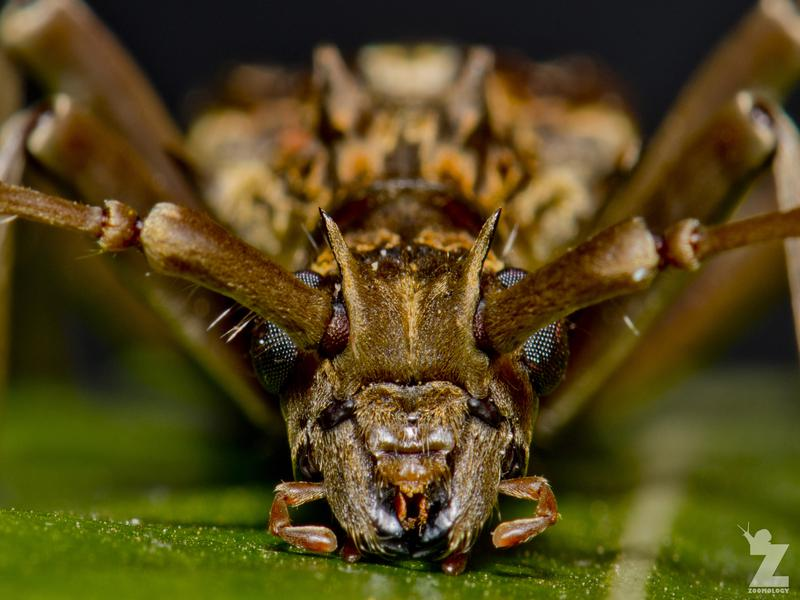Spiny_beetle: (192, 268, 581, 584)
